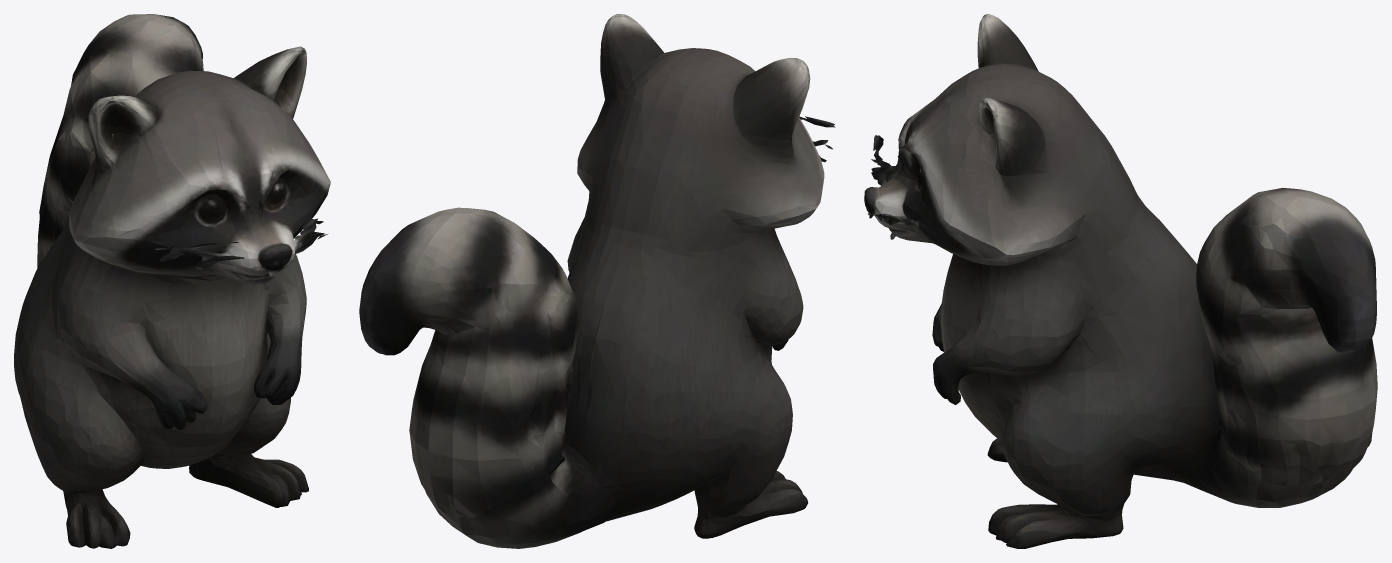
The model's file is raccoon.glb.
3 renders of one model, left to right at view 1: azimuth 30°, elevation 25°; view 2: azimuth 150°, elevation 25°; view 3: azimuth 270°, elevation 25°, orthographic. The views are drawn at different scales.
Visible parts, largest first — view 1: geometry_0; view 2: geometry_0; view 3: geometry_0.
Part boxes in pixels (x1,y1,x2,y2): geometry_0: (14,14,330,548); geometry_0: (359,14,835,548); geometry_0: (864,14,1377,548).
Bounding box in the file's own units: 0.6415 × 0.9571 × 0.9997.
Materials: 1 (1 with a texture image).
